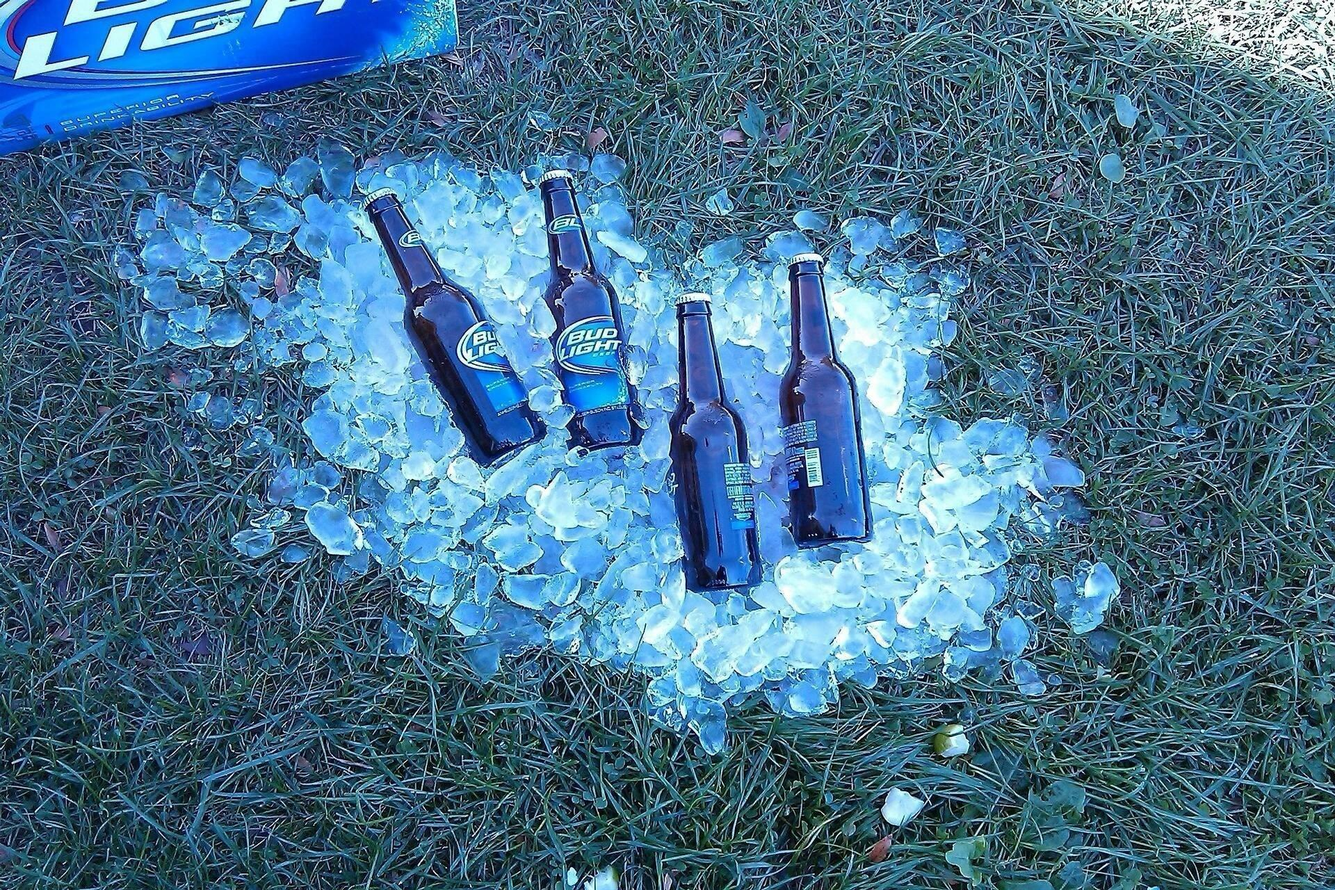bottle-glass: (353, 181, 549, 473), (535, 166, 652, 462), (663, 290, 770, 603), (772, 247, 878, 559)
